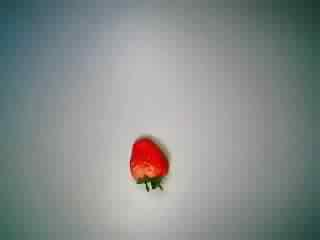strawberry: (113, 132, 179, 194)
